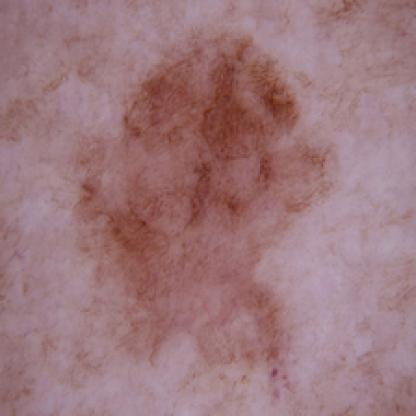Skin_Cancer-Malignant: (78, 28, 332, 400)
